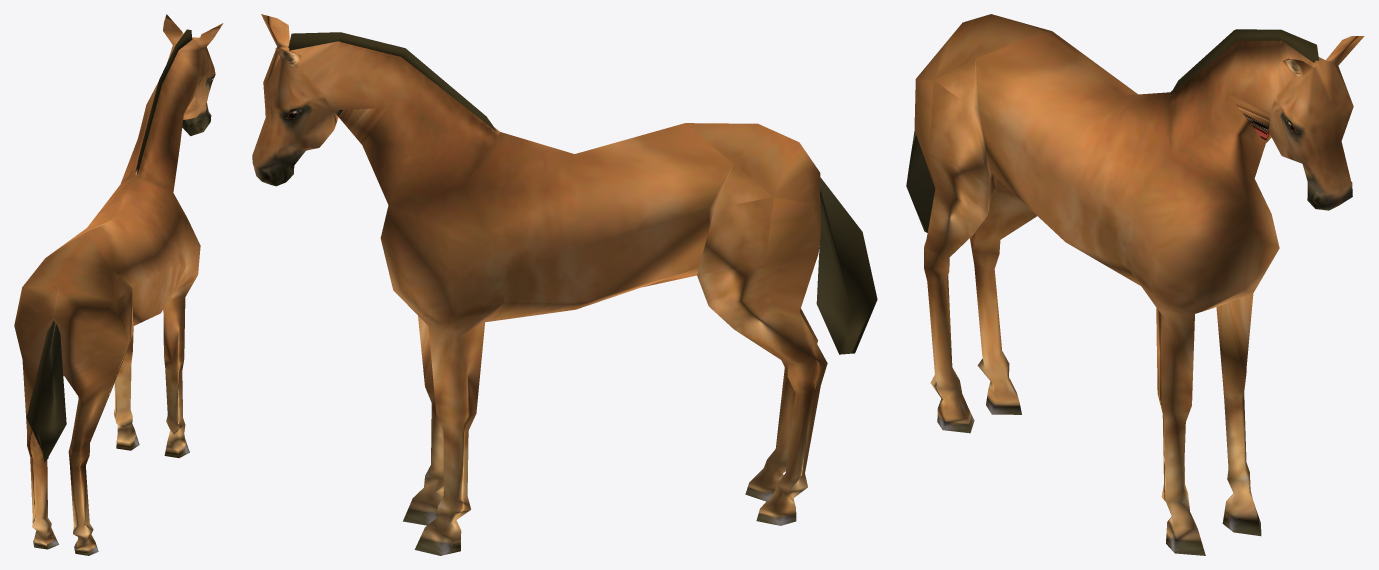
Rendered from icon.icn.obj.
3 renders of one model, left to right at view 1: azimuth 30°, elevation 25°; view 2: azimuth 150°, elevation 25°; view 3: azimuth 270°, elevation 25°, orthographic. The views are drawn at different scales.
Size of the model in its own units: 2.2 by 2.49 by 1.89.
Materials: 1 (1 with a texture image).
